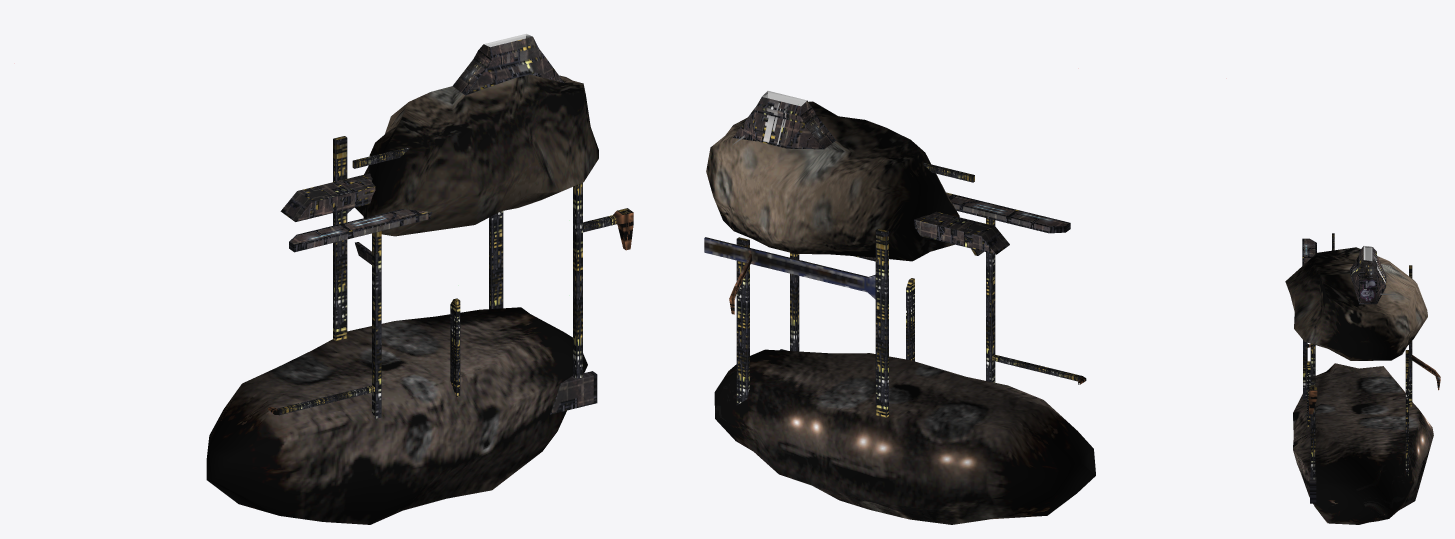
3 views of the same model, side by side, from view 1: azimuth 30°, elevation 25°; view 2: azimuth 150°, elevation 25°; view 3: azimuth 270°, elevation 25° (orthographic). The views are drawn at different scales.
Visible parts, largest first — view 1: frm-sphere6, frm-sphere8, frm-cube43, frm-cube46_1, frm-cube46_3, frm-cube46, frm-cube5_2, frm-cube5, frm-cube50, frm-cube5_1, frm-cube46_4, frm-cube4 (+1 smaller); view 2: frm-sphere6, frm-sphere8, frm-cube43, frm-cube49, frm-cube46, frm-cube46_1, frm-cube50, frm-cube46_3, frm-cube5, frm-cube5_2, frm-cube46_4, frm-cube2; view 3: frm-sphere6, frm-sphere8, frm-cube43, frm-cube5_2, frm-cube50, frm-cube46_3, frm-cube4, frm-cube46, frm-cube5, frm-cube8, frm-cube46_4.
Part boxes in pixels (x1,y1,x2,y2): frm-sphere6: (206, 307, 587, 524); frm-sphere8: (355, 74, 598, 236); frm-cube43: (453, 37, 563, 95); frm-cube46_1: (280, 173, 375, 221); frm-cube46_3: (289, 209, 431, 252); frm-cube46: (333, 136, 347, 341); frm-cube5_2: (573, 182, 582, 378); frm-cube5: (372, 231, 381, 418); frm-cube50: (489, 211, 503, 308); frm-cube5_1: (550, 371, 597, 414); frm-cube46_4: (450, 298, 460, 397); frm-cube4: (583, 208, 633, 250); frm-sphere6: (714, 349, 1095, 524); frm-sphere8: (706, 101, 959, 261); frm-cube43: (733, 97, 835, 149); frm-cube49: (704, 237, 875, 299); frm-cube46: (875, 228, 888, 417); frm-cube46_1: (914, 211, 1009, 254); frm-cube50: (736, 237, 749, 405); frm-cube46_3: (946, 192, 1070, 233); frm-cube5: (986, 218, 995, 382); frm-cube5_2: (790, 252, 799, 351); frm-cube46_4: (906, 278, 914, 361); frm-cube2: (992, 354, 1086, 384); frm-sphere6: (1293, 363, 1433, 524); frm-sphere8: (1285, 247, 1427, 360); frm-cube43: (1350, 246, 1386, 304); frm-cube5_2: (1310, 343, 1315, 479); frm-cube50: (1405, 350, 1408, 476); frm-cube46_3: (1302, 238, 1316, 265); frm-cube4: (1309, 375, 1317, 414); frm-cube46: (1409, 265, 1412, 406); frm-cube5: (1303, 340, 1307, 399); frm-cube8: (1412, 355, 1440, 390); frm-cube46_4: (1307, 361, 1310, 427).
Bounding box in the file's own units: 39.43 × 39.58 × 14.7.
